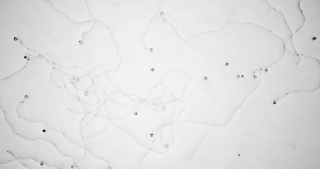germinated: (271, 95, 283, 105), (158, 10, 168, 20), (160, 138, 169, 149), (12, 35, 23, 44), (144, 44, 154, 53), (251, 70, 259, 80), (83, 86, 90, 97), (73, 76, 80, 87), (156, 105, 167, 112), (78, 34, 85, 43), (21, 93, 28, 102)
nongerminated: (312, 34, 319, 41), (223, 61, 230, 68), (132, 110, 139, 117), (40, 127, 47, 134), (202, 74, 208, 82), (148, 131, 154, 138), (149, 66, 155, 72), (37, 161, 43, 167), (240, 73, 245, 79), (236, 152, 242, 157), (236, 73, 240, 79)
